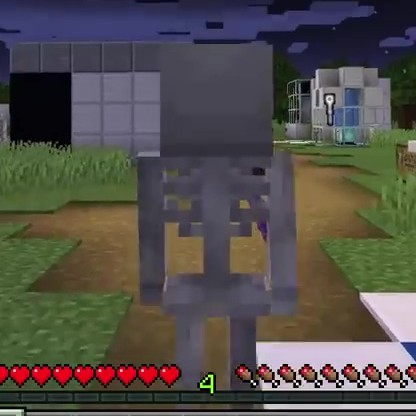skeleton: (141, 41, 302, 356)
